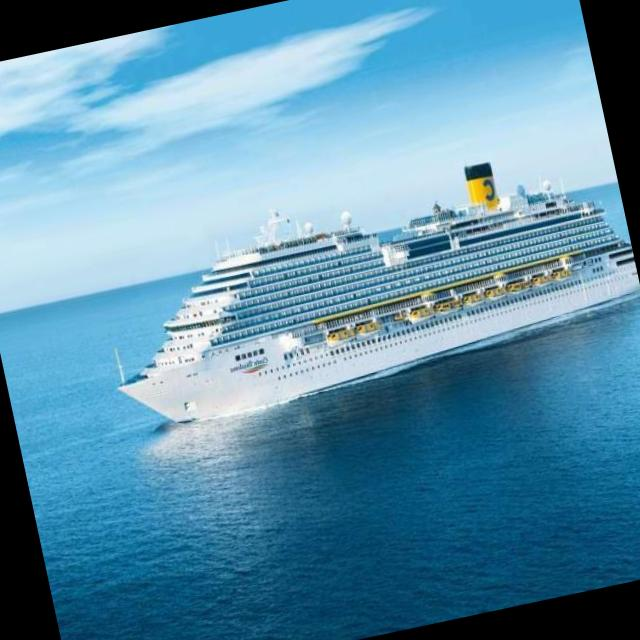Cruise: (121, 162, 640, 422)
